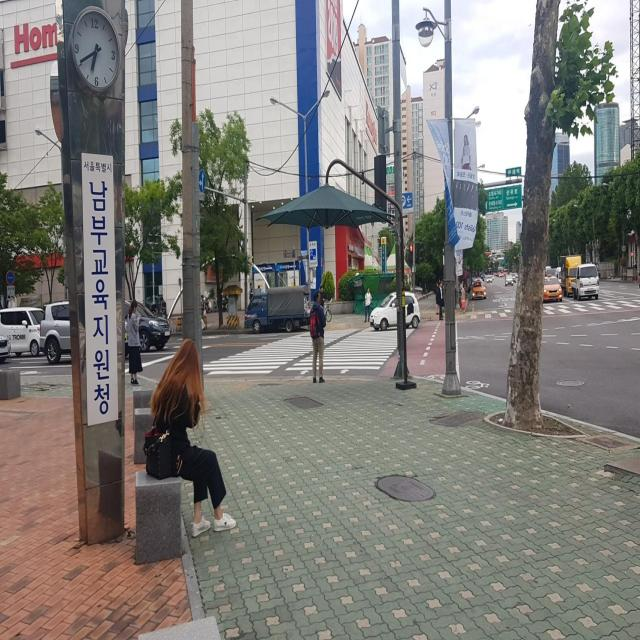빨간불: (408, 244, 414, 266)
횡단보도: (204, 326, 415, 374)
